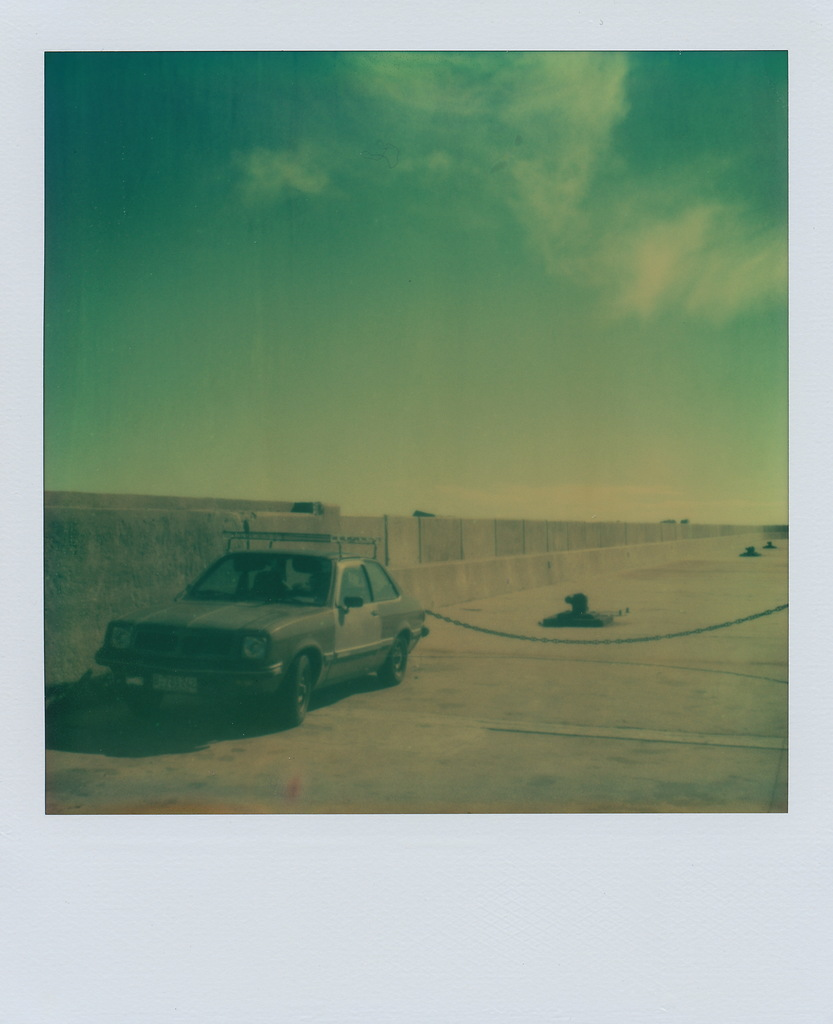Car: (73, 510, 436, 734)
